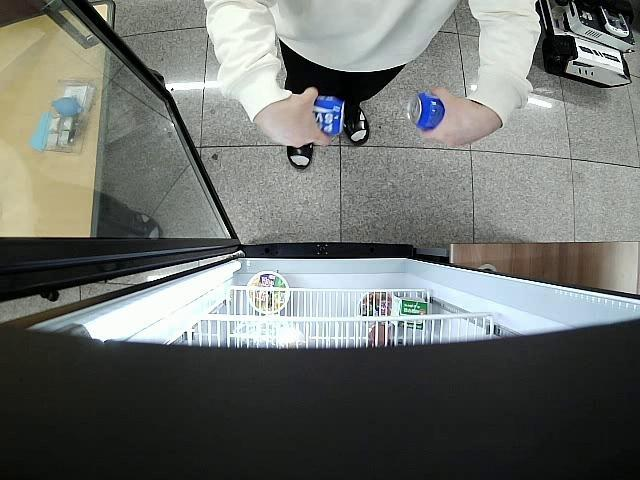13_pocariSweat: (406, 94, 446, 133), (309, 95, 346, 136)
